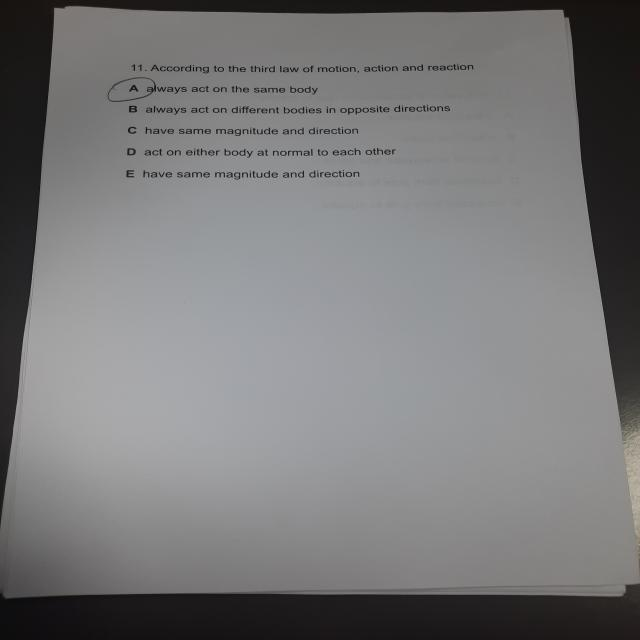A: (104, 76, 161, 105)
